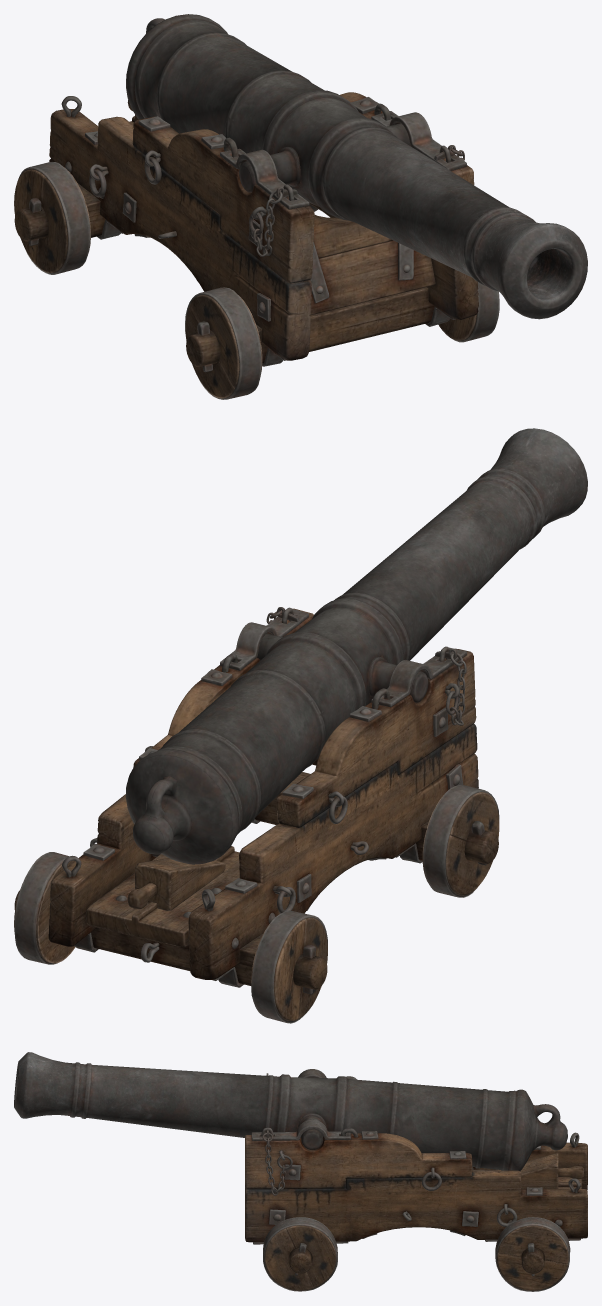
Rendered from cannon_main.glb.
The picture shows the model from 3 angles, top to bottom: view 1: azimuth 30°, elevation 25°; view 2: azimuth 150°, elevation 25°; view 3: azimuth 270°, elevation 25°; orthographic projection. The views are drawn at different scales.
Visible parts, largest first — view 1: cannon_01_frame, cannon_01_barrel, cannon_01_wheel_02, cannon_01_wheel_01, cannon_01_wheel_03; view 2: cannon_01_frame, cannon_01_barrel, cannon_01_wheel_01, cannon_01_wheel_02, cannon_01_wheel_04, cannon_01_pusherblock; view 3: cannon_01_barrel, cannon_01_frame, cannon_01_wheel_04, cannon_01_wheel_03, cannon_01_pusherblock.
Part boxes in pixels (box(x1,y1,x2,y2)): cannon_01_frame: box(14, 92, 478, 372); cannon_01_barrel: box(126, 14, 587, 319); cannon_01_wheel_02: box(14, 162, 90, 274); cannon_01_wheel_01: box(185, 287, 262, 399); cannon_01_wheel_03: box(438, 282, 499, 342); cannon_01_frame: box(14, 607, 498, 994); cannon_01_barrel: box(125, 428, 587, 864); cannon_01_wheel_01: box(422, 785, 499, 897); cannon_01_wheel_02: box(251, 910, 327, 1023); cannon_01_wheel_04: box(14, 852, 75, 964); cannon_01_pusherblock: box(127, 858, 225, 910); cannon_01_barrel: box(14, 1052, 567, 1171); cannon_01_frame: box(245, 1069, 587, 1276); cannon_01_wheel_04: box(495, 1217, 570, 1291); cannon_01_wheel_03: box(263, 1217, 337, 1291); cannon_01_pusherblock: box(496, 1153, 583, 1189).
Bounding box in the file's own units: 0.9381 × 0.8588 × 2.3.
1 material, 1 textured.
